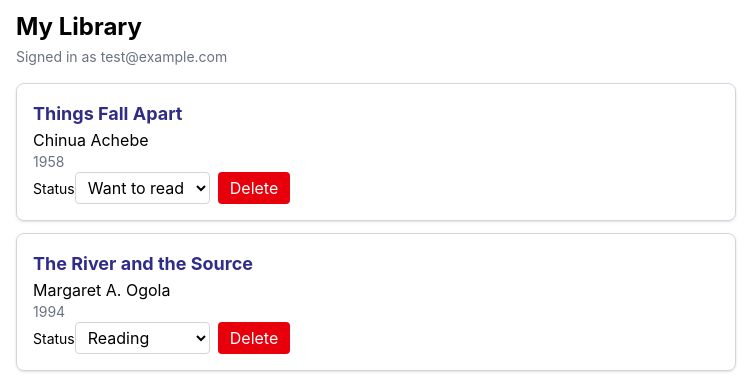
Test: Library page › deletes a book after the person confirms
expect the text "Things Fall Apart" is shown: met, box [33,103,182,124]
Click the button "Delete" below "Things Fall Apart": [254, 188] box [218,172,290,204]
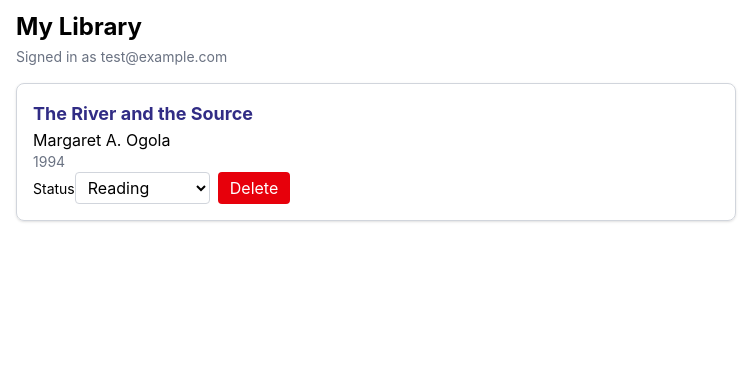
expect the text "Things Fall Apart" is gone: met
